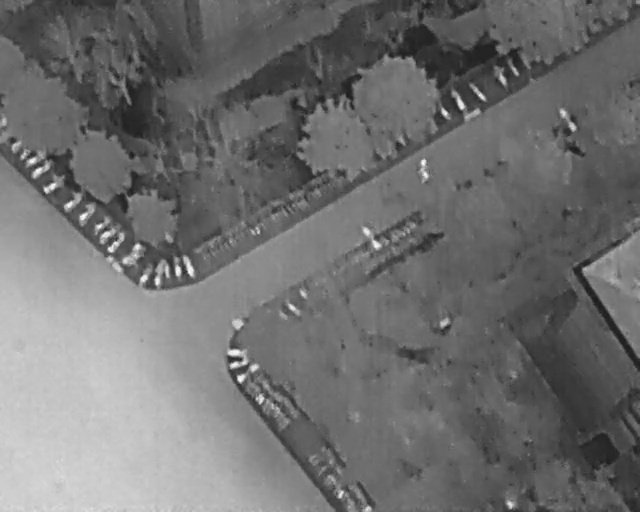Bicycle: (58, 185, 87, 214), (75, 196, 101, 225), (466, 79, 491, 105), (40, 173, 67, 195), (88, 215, 113, 238), (105, 231, 128, 256), (179, 251, 198, 280), (449, 89, 470, 115), (491, 64, 512, 90), (137, 261, 156, 288), (435, 101, 456, 124), (152, 258, 167, 290), (503, 57, 522, 80), (23, 150, 47, 168), (226, 357, 252, 372), (171, 253, 182, 279), (28, 167, 46, 181), (226, 347, 250, 357)
